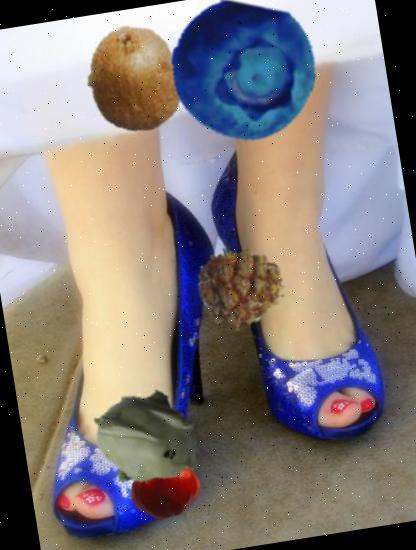Huckleberry: (160, 0, 326, 153)
Kiwi: (74, 17, 198, 141)
Kohlrabi: (80, 373, 214, 507)
Pineapple: (192, 235, 295, 338)
Tomato: (126, 450, 208, 532)
